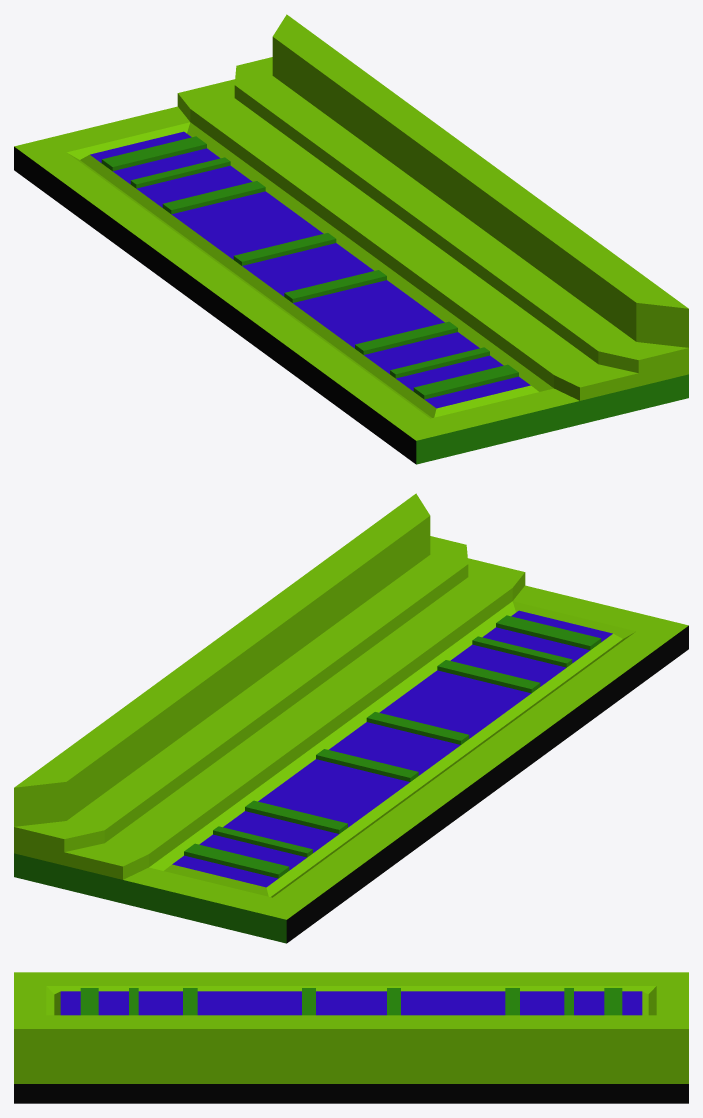
File: Rocker Punk_Synth.FBX
The picture shows the model from 3 angles, top to bottom: view 1: azimuth 30°, elevation 25°; view 2: azimuth 150°, elevation 25°; view 3: azimuth 270°, elevation 25°; orthographic projection. The views are drawn at different scales.
Visible parts, largest first — view 1: Piano; view 2: Piano; view 3: Piano.
Part boxes in pixels (<box>): Piano: <box>14,14,688,464</box>; Piano: <box>14,493,688,943</box>; Piano: <box>14,972,688,1103</box>.
Bounding box in the file's own units: 13.06 × 4.09 × 33.36.
